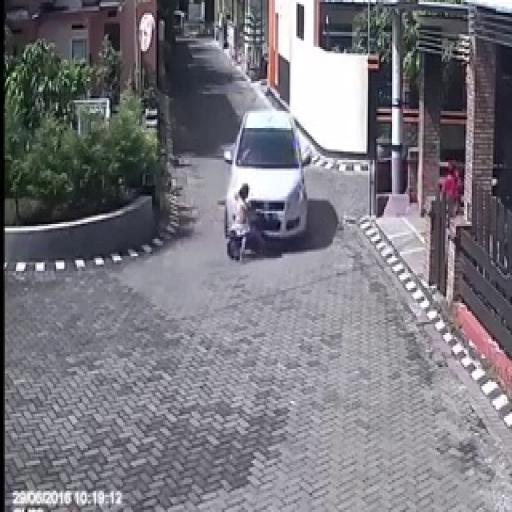Car: (222, 111, 314, 241)
Minor Accident: (216, 104, 317, 270)
Motor: (225, 191, 283, 266)
